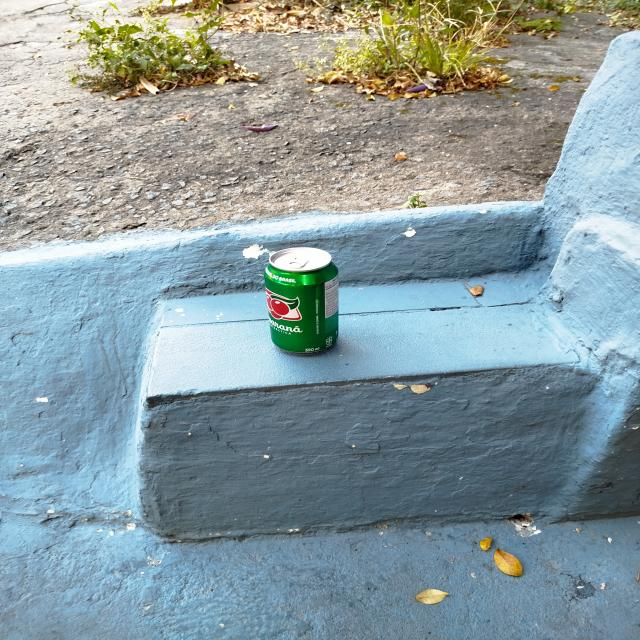Guarana: (262, 246, 338, 353)
